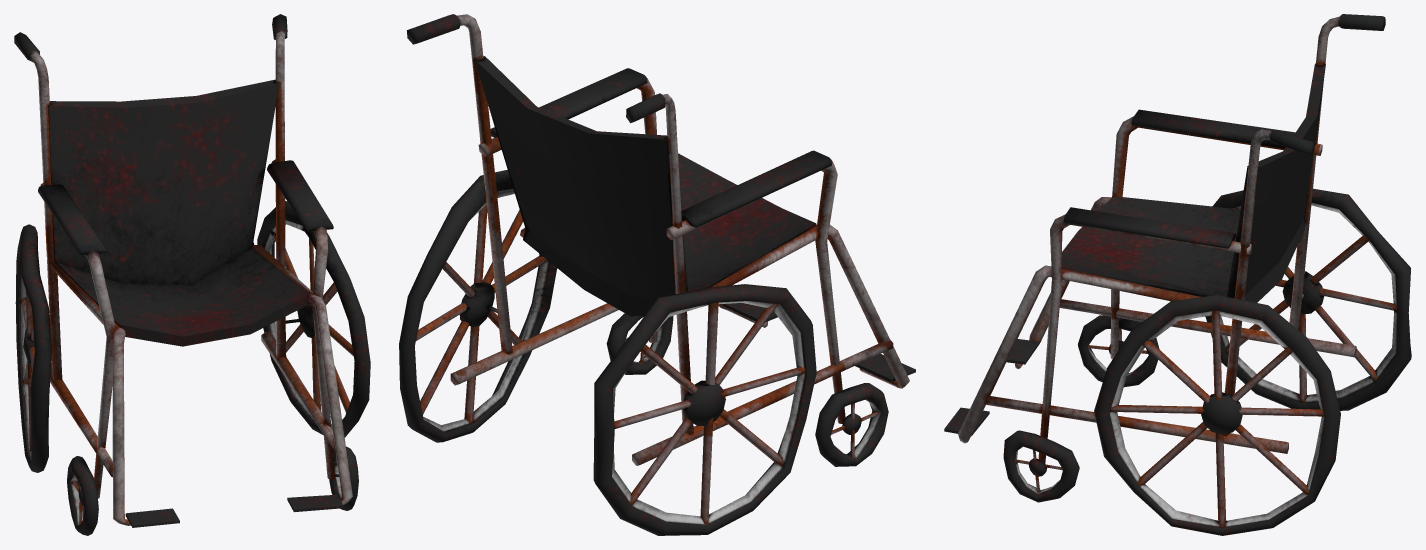
The model's file is broken wheelchair with blood.fbx.
3 views of the same model, side by side, from view 1: azimuth 30°, elevation 25°; view 2: azimuth 150°, elevation 25°; view 3: azimuth 270°, elevation 25° (orthographic). The views are drawn at different scales.
Parts seen in each view (by area): view 1: broken wheelchair with blood; view 2: broken wheelchair with blood; view 3: broken wheelchair with blood.
Boxes of the visible parts, <box> form: broken wheelchair with blood: <box>14,14,370,535</box>; broken wheelchair with blood: <box>399,14,915,535</box>; broken wheelchair with blood: <box>944,14,1411,535</box>.
Bounding box in the file's own units: 0.8458 × 1.03 × 1.07.
